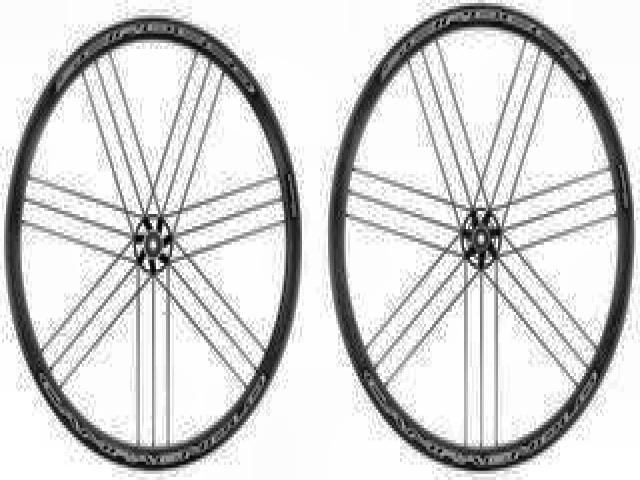wheel: (327, 4, 636, 474), (5, 13, 304, 473)
